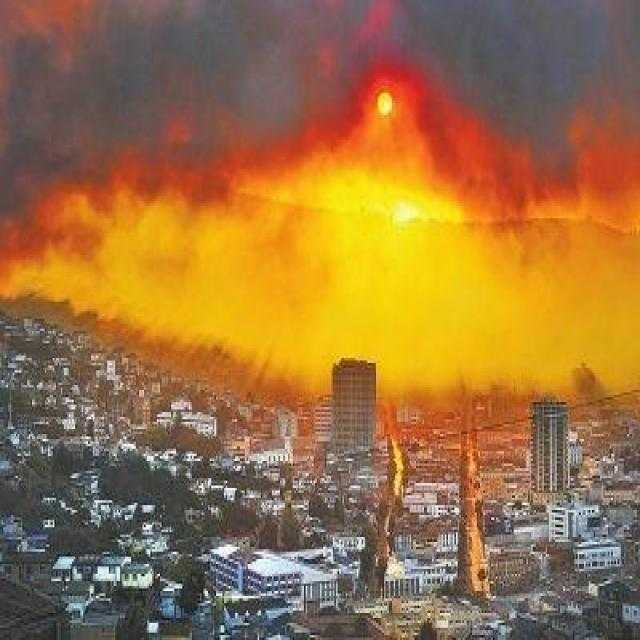other: (366, 69, 405, 132)
smoke: (3, 128, 634, 402)
